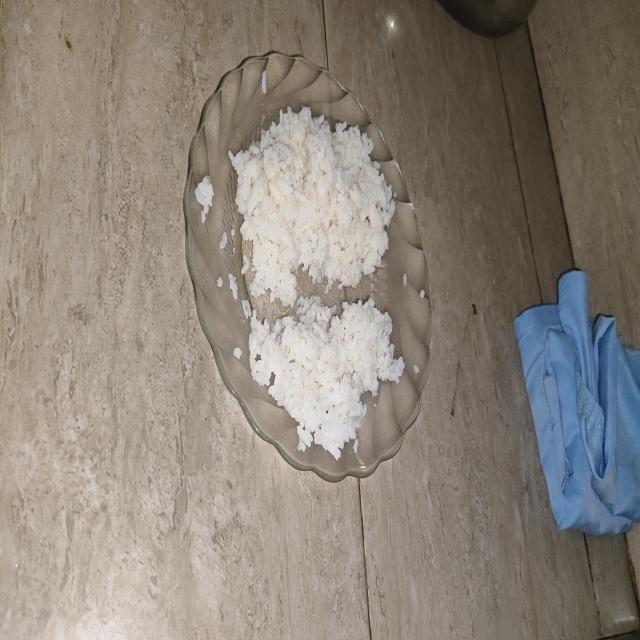nasi_putih: (229, 106, 395, 308), (249, 296, 405, 460)
